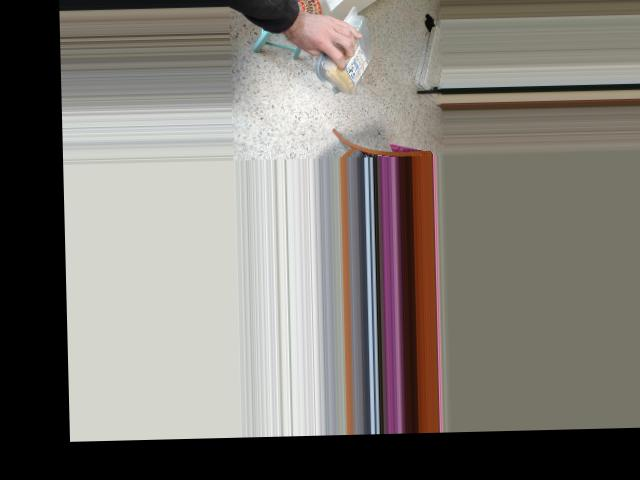cheese: (326, 12, 369, 102)
